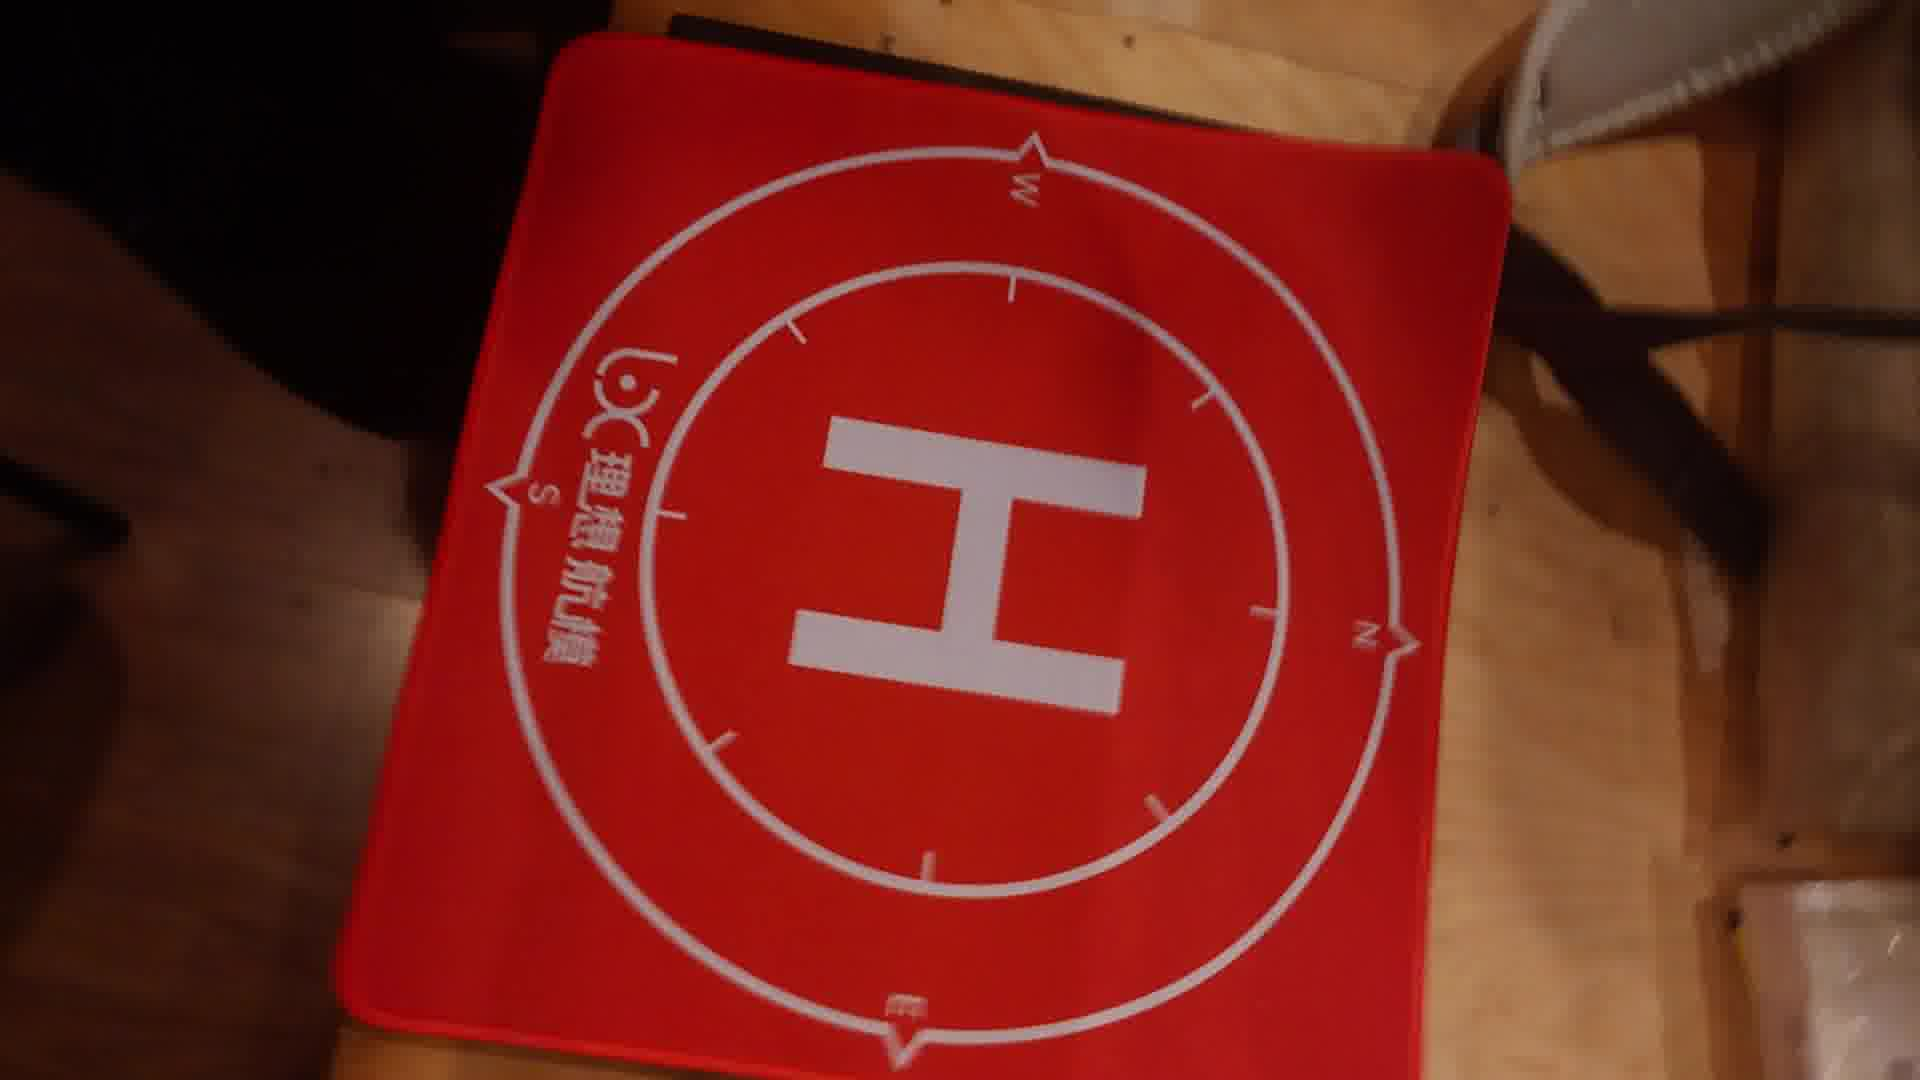H: (787, 404, 1146, 720)
